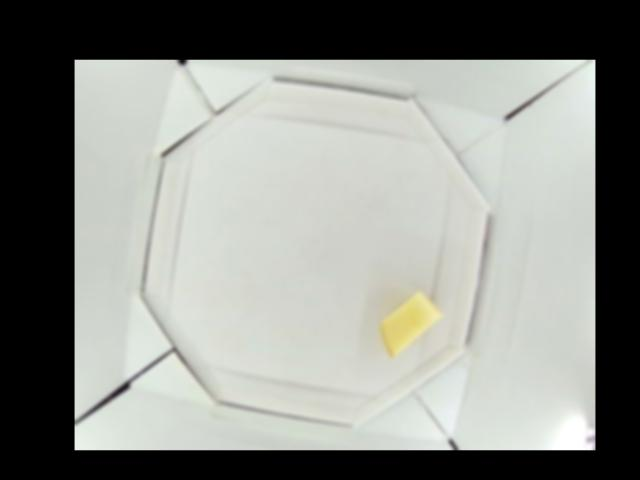Potato: (380, 289, 444, 357)
